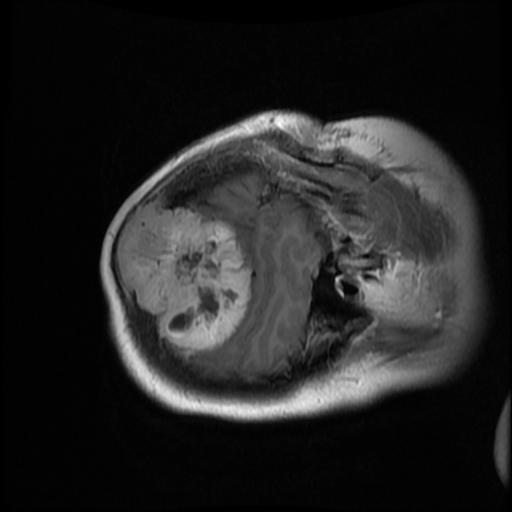meningioma: (118, 199, 251, 350)
